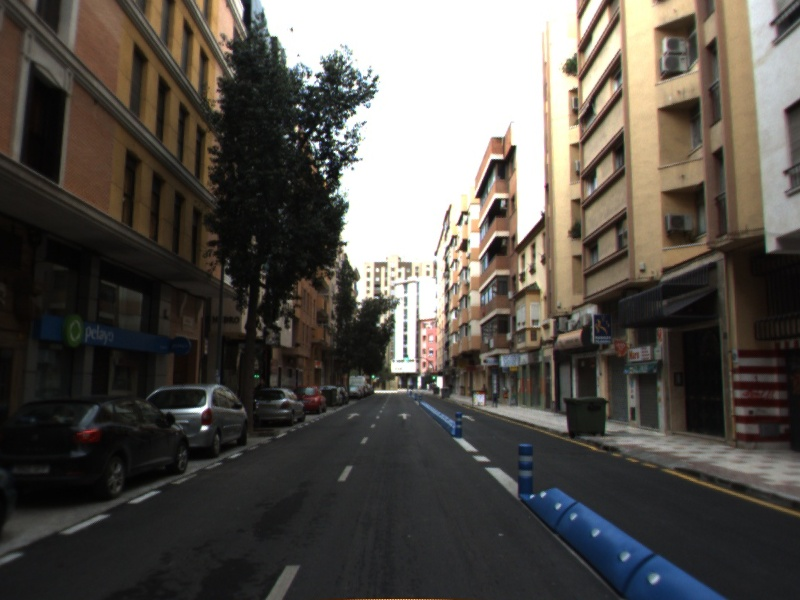STRAIGHT: (396, 411, 413, 421), (345, 411, 361, 421), (461, 414, 476, 422)
